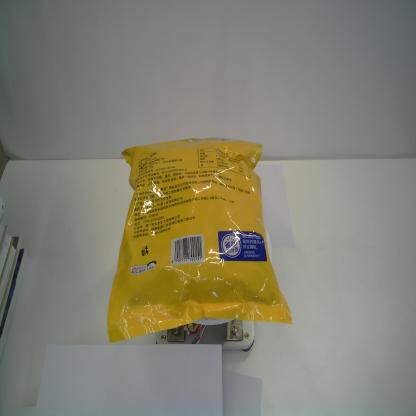Dried Food: (107, 136, 293, 344)
